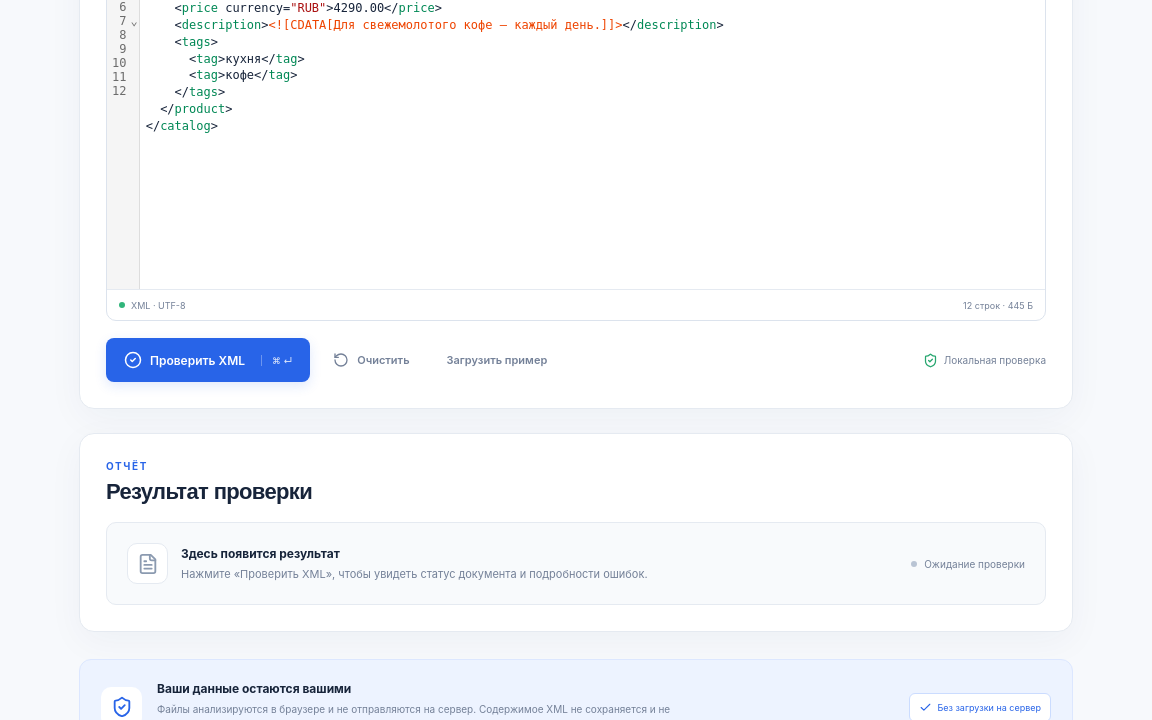
Scenario: XML Validator interface › can clear the editor
This screenshot has width=1152, height=720.
(page scrolled)
Click the button "Очистить". click: (371, 360)
box: [319, 341, 424, 379]
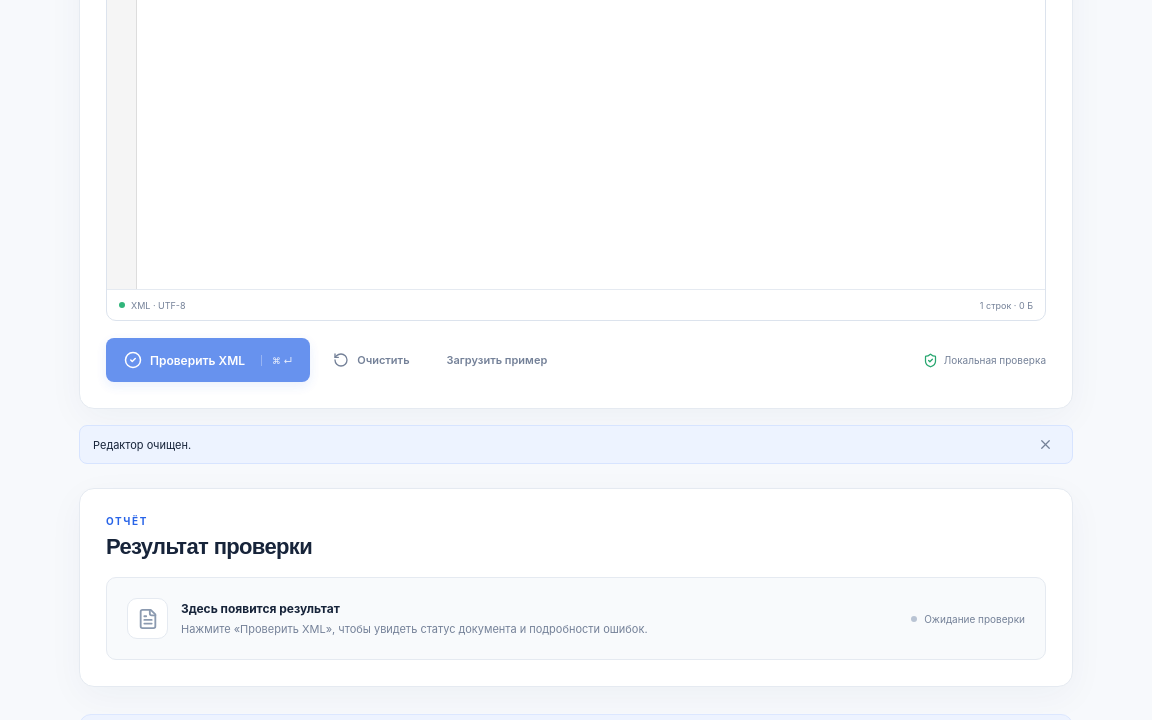
Now the text "Редактор очищен." is shown, box [93, 438, 191, 452]
